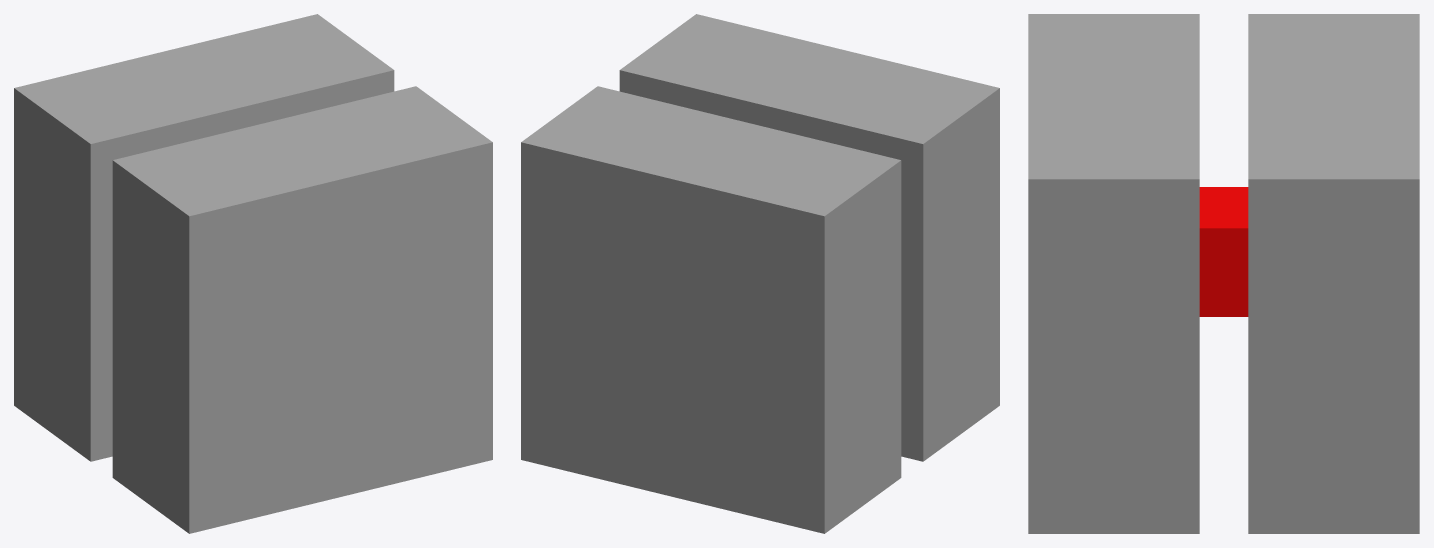
File: Servo.obj
3 renders of one model, left to right at view 1: azimuth 30°, elevation 25°; view 2: azimuth 150°, elevation 25°; view 3: azimuth 270°, elevation 25°, orthographic. The views are drawn at different scales.
Visible parts, largest first — view 1: cube; view 2: cube; view 3: cube.
Part boxes in pixels (x1=…): cube: x1=14, y1=14, x2=492, y2=533; cube: x1=521, y1=14, x2=999, y2=533; cube: x1=1028, y1=14, x2=1419, y2=533.
Size of the model in its own units: 1 by 1 by 1.
Materials: 1 (1 with a texture image).
